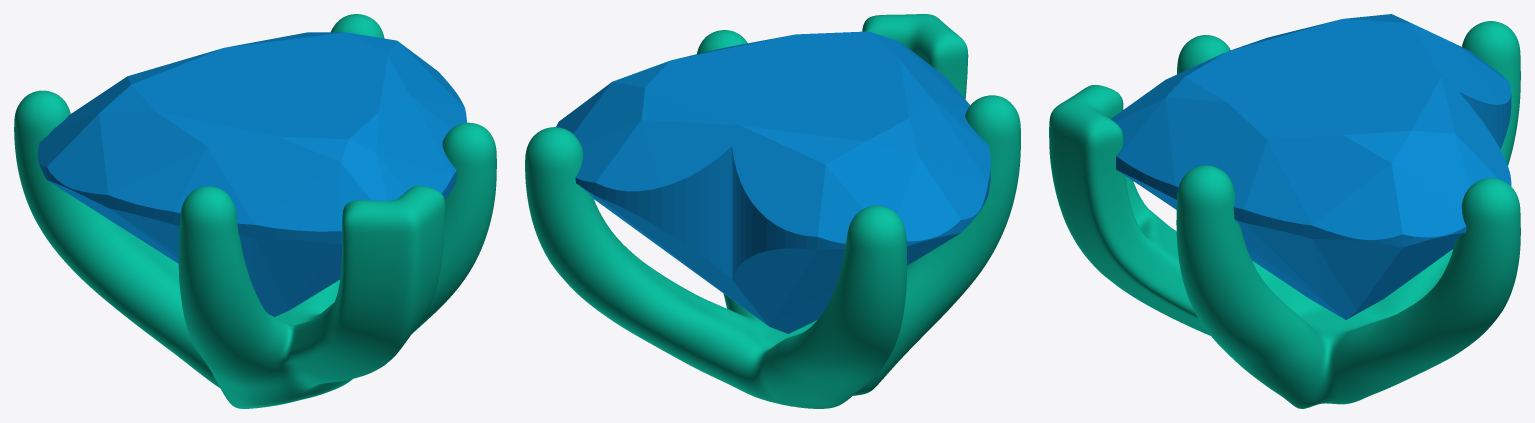
The model's file is heart.glb.
3 renders of one model, left to right at view 1: azimuth 30°, elevation 25°; view 2: azimuth 150°, elevation 25°; view 3: azimuth 270°, elevation 25°, orthographic. The views are drawn at different scales.
Parts seen in each view (by area): view 1: DIA-HRTHD-B1-1, MTL-HEAD-1 (×2); view 2: DIA-HRTHD-B1-1, MTL-HEAD-1 (×2); view 3: DIA-HRTHD-B1-1, MTL-HEAD-1 (×2).
Part boxes in pixels (<box>): DIA-HRTHD-B1-1: <box>37,32,467,316</box>; MTL-HEAD-1 (×2): <box>14,14,496,408</box>; DIA-HRTHD-B1-1: <box>556,31,990,333</box>; MTL-HEAD-1 (×2): <box>525,14,1020,408</box>; DIA-HRTHD-B1-1: <box>1111,14,1511,319</box>; MTL-HEAD-1 (×2): <box>1049,21,1520,408</box>.
Bounding box in the file's own units: 9.06 × 6.6 × 9.18.
